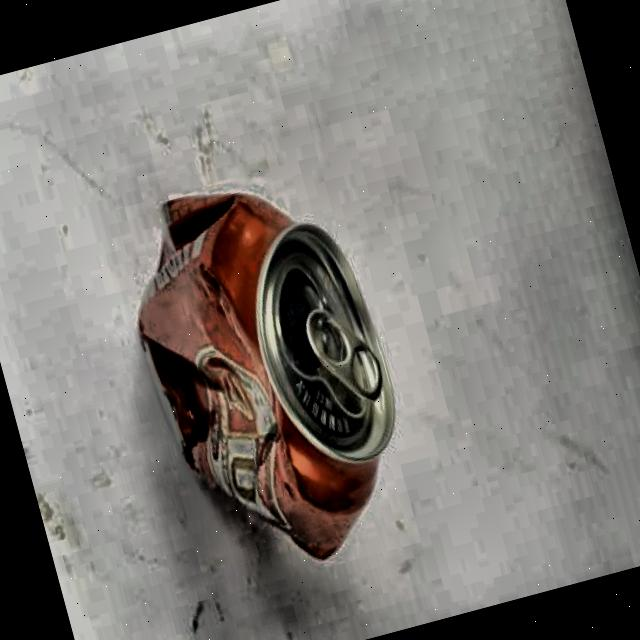metal: (104, 156, 432, 594)
